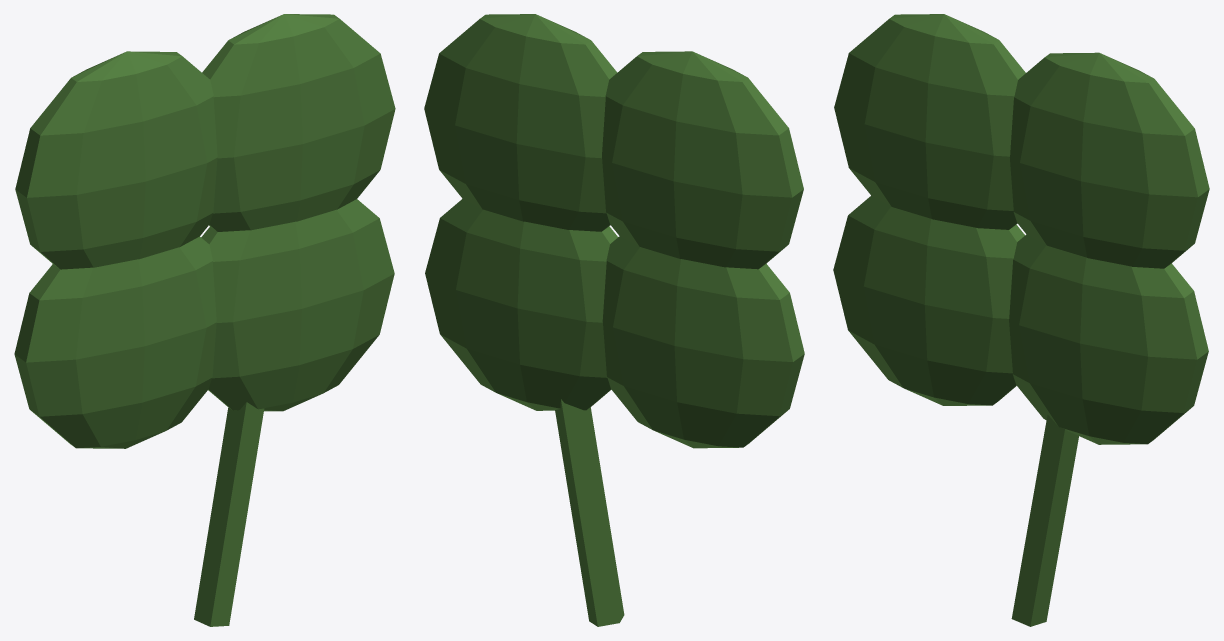
File: lure-lucky.glb
3 views of the same model, side by side, from view 1: azimuth 30°, elevation 25°; view 2: azimuth 150°, elevation 25°; view 3: azimuth 330°, elevation 25° (orthographic).
Parts seen in each view (by area): view 1: lure-lucky; view 2: lure-lucky; view 3: lure-lucky.
Part boxes in pixels (left/top/right/bottom): lure-lucky: left=14, top=14, right=395, bottom=626; lure-lucky: left=424, top=14, right=804, bottom=626; lure-lucky: left=833, top=14, right=1209, bottom=626.
Size of the model in its own units: 0.5651 by 0.8666 by 0.1.
